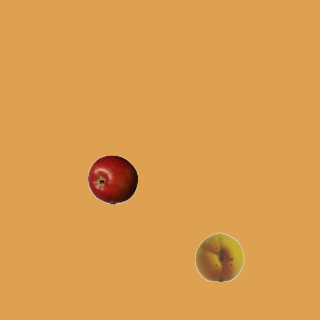Apple Braeburn: (87, 154, 137, 204)
Peach 2: (194, 231, 244, 281)
